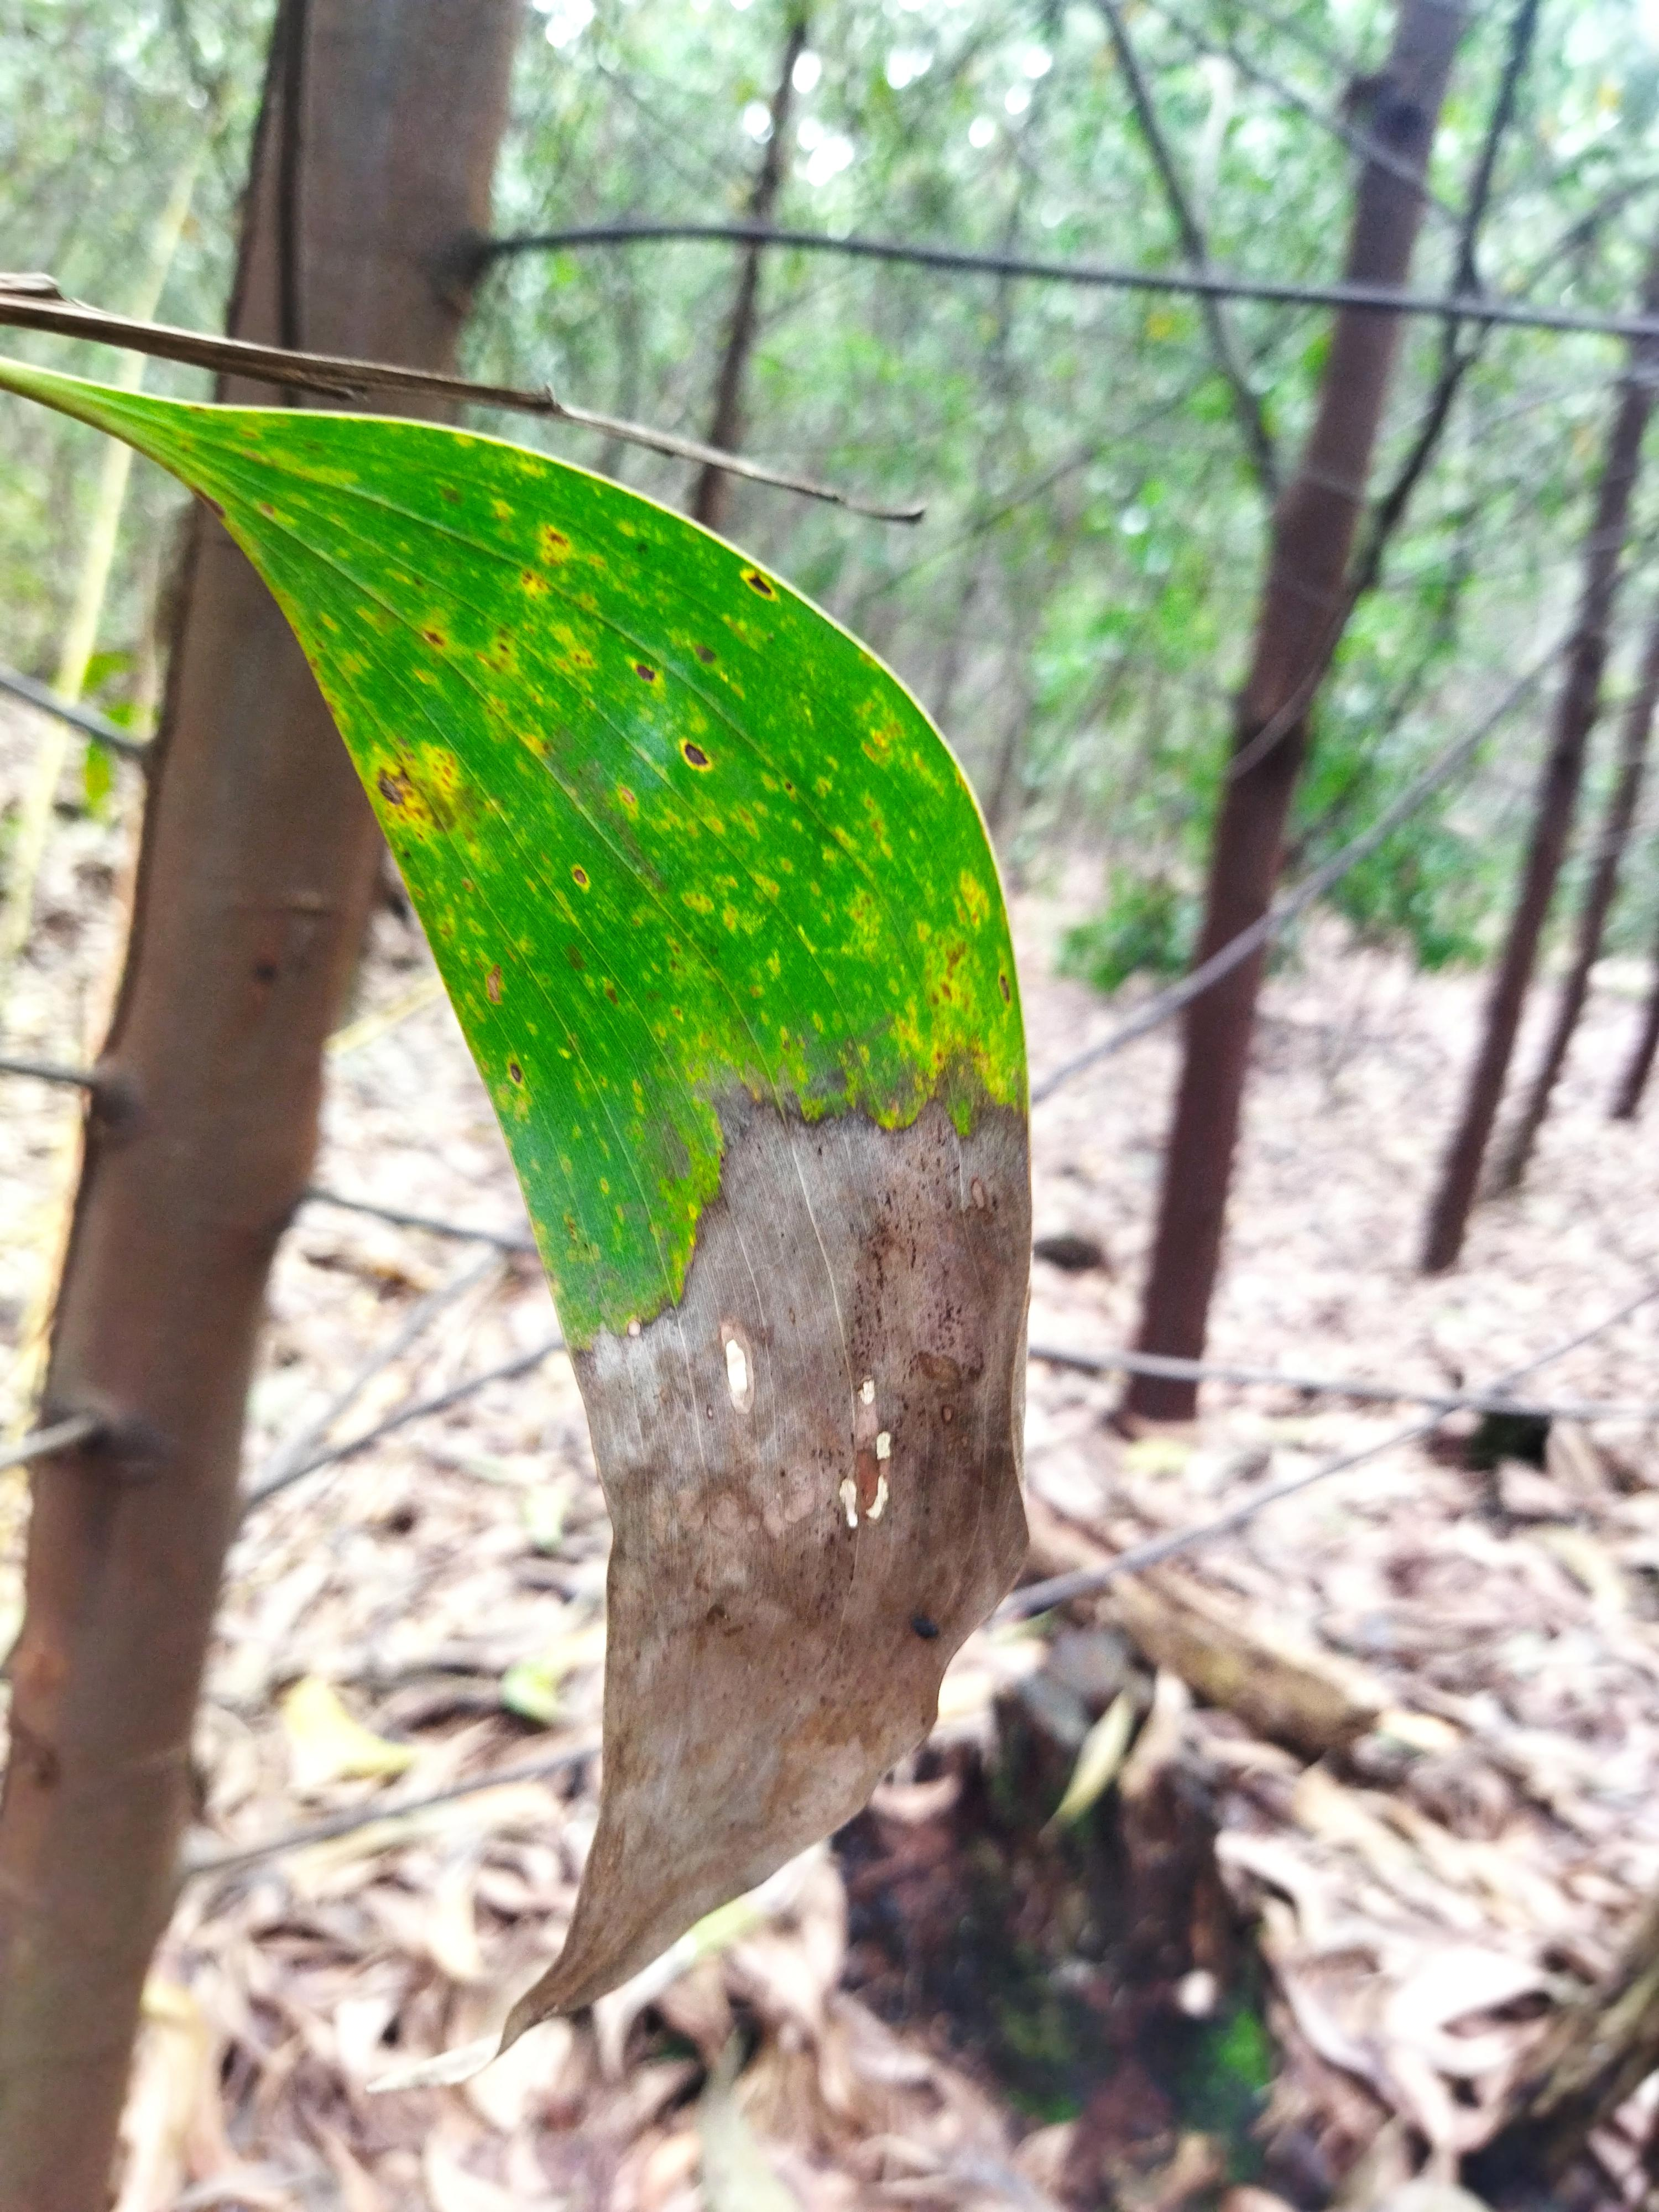Cylindrocladium: (577, 1146, 1054, 1979)
Xanthomonas: (256, 383, 1009, 1137)
